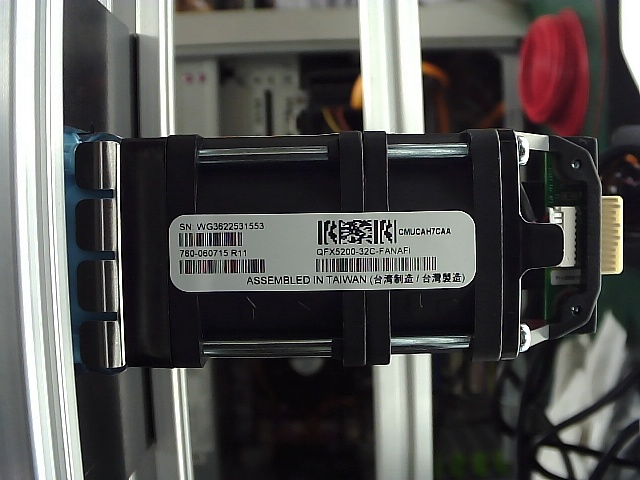6_0: (42, 93, 633, 370)
